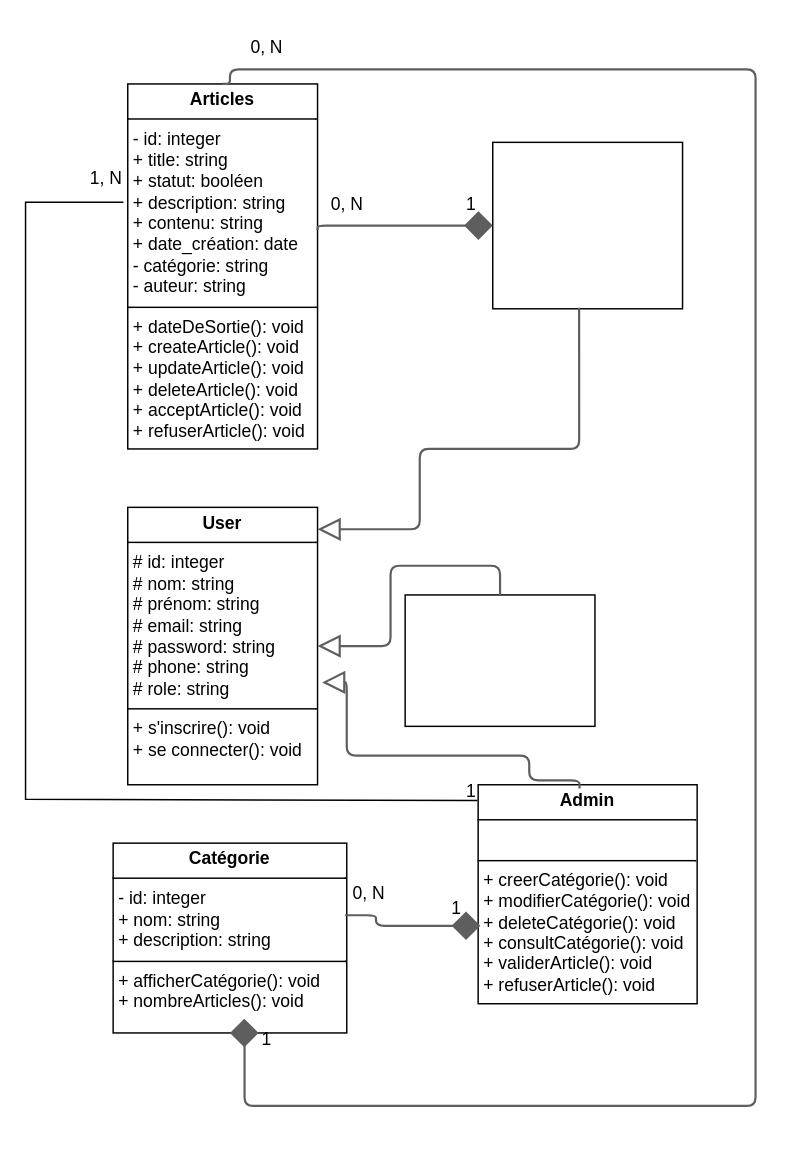
The diagram is 809 pixels wide and 1158 high, and some of its shapes have lost their labels. The shapes that lost their labels are listed below. From the top down, each one's centre as x and y in pixels, then its label:
the point at 587,225: Author + createArticle(): void + modifyArticle(): void + deleteArticle(): void
the point at 499,659: Member + consulter(): void
